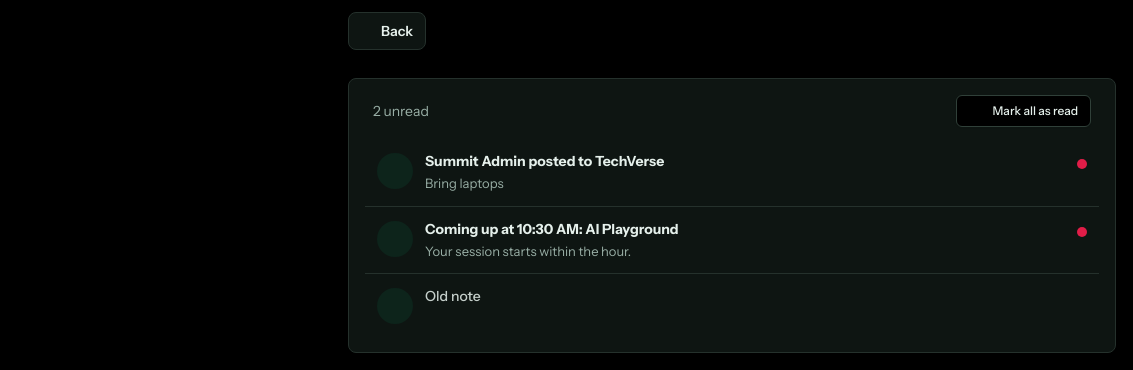
Scenario: Back and the bell preview › opened directly, Back goes Home
The image size is (1133, 370).
Click the button "Back" at coordinates (387, 31), box [348, 12, 426, 50]
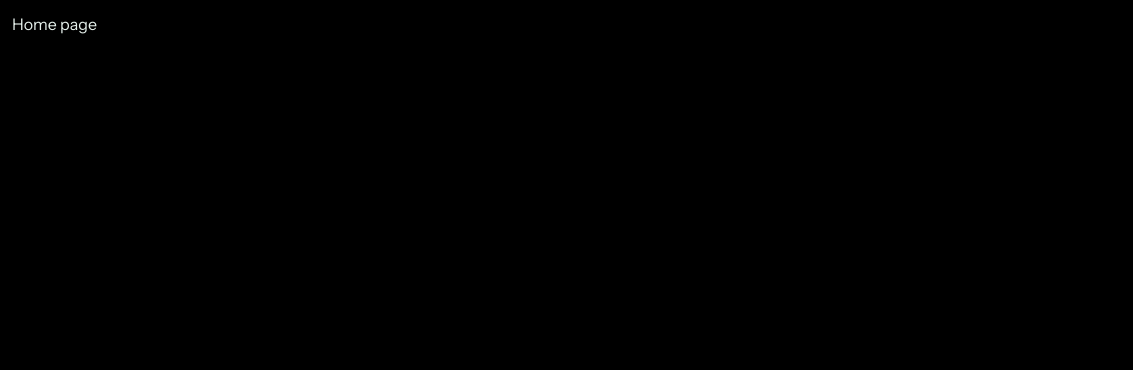
Now the text "Home page" is shown, box [12, 14, 97, 34]
